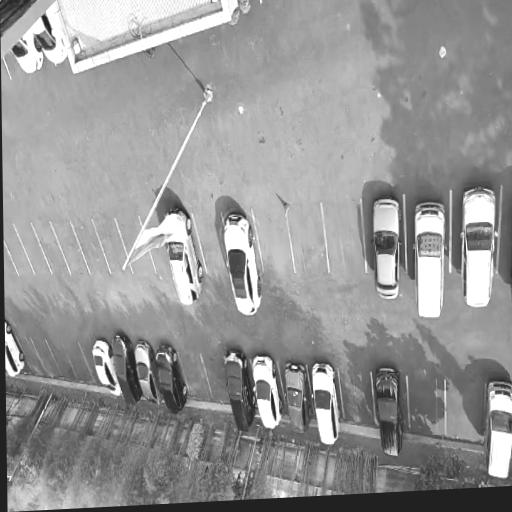Car: (455, 178, 503, 316), (411, 186, 453, 329), (158, 203, 210, 309), (220, 208, 267, 321), (368, 186, 405, 307), (372, 359, 409, 471), (219, 348, 258, 436), (480, 375, 512, 481), (308, 361, 344, 450), (249, 355, 287, 436), (107, 331, 144, 409), (281, 357, 315, 440), (152, 343, 190, 416), (30, 5, 69, 68), (87, 334, 123, 401), (131, 340, 165, 407), (9, 28, 48, 77), (5, 318, 27, 381)
Space Available: (321, 200, 366, 274), (285, 204, 330, 274), (252, 211, 295, 274), (445, 380, 484, 444), (407, 379, 446, 441), (92, 217, 133, 275), (116, 216, 156, 274), (192, 213, 229, 273), (71, 220, 111, 275), (338, 372, 375, 430), (51, 221, 90, 275), (13, 223, 52, 275), (32, 222, 71, 274), (139, 215, 171, 274), (178, 354, 213, 403), (4, 224, 35, 275), (201, 355, 231, 406), (46, 341, 78, 382), (63, 344, 95, 385), (17, 338, 49, 378), (31, 338, 62, 378), (79, 342, 103, 387), (4, 242, 18, 276)
